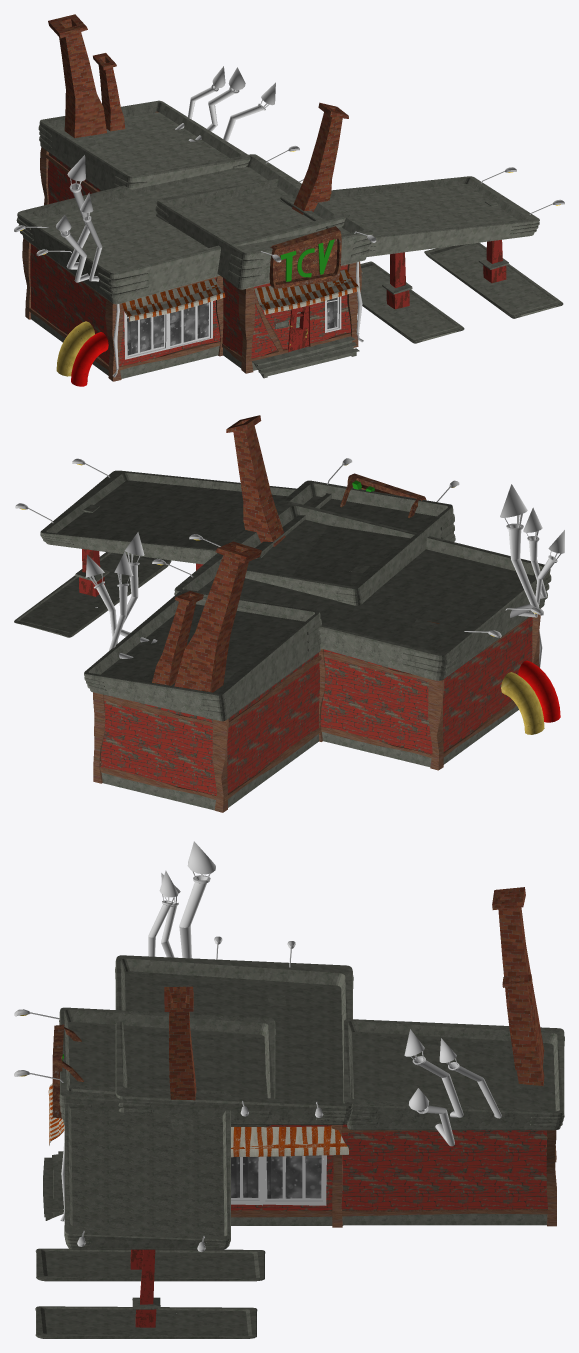
Rendered from the_final_storm_prototype_shop.obj.
3 renders of one model, top to bottom at view 1: azimuth 30°, elevation 25°; view 2: azimuth 150°, elevation 25°; view 3: azimuth 270°, elevation 25°, orthographic. The views are drawn at different scales.
Visible parts, largest first — view 1: obj11, obj14, obj9, obj10, obj5, obj8, obj13, obj6, obj4, obj16, obj17, obj15 (+2 smaller); view 2: obj11, obj14, obj9, obj10, obj8, obj7, obj17, obj15, obj13, obj4; view 3: obj11, obj14, obj9, obj8, obj10, obj5, obj6, obj16, obj4, obj17, obj13.
Part boxes in pixels (x1,y1,x2,y2): obj11: (16,100,563,378); obj14: (30,153,350,366); obj9: (48,14,348,214); obj10: (22,111,361,381); obj5: (122,269,363,321); obj8: (14,66,564,377); obj13: (269,226,341,288); obj6: (127,297,337,355); obj4: (288,240,506,352); obj16: (124,301,212,359); obj17: (56,82,275,282); obj15: (71,332,108,386); obj11: (14,470,551,810); obj14: (101,617,532,795); obj9: (152,415,285,692); obj10: (93,608,540,812); obj8: (15,458,547,667); obj7: (501,672,544,734); obj17: (85,530,564,644); obj15: (518,660,560,722); obj13: (340,473,426,517); obj4: (79,549,203,596); obj11: (35,955,564,1338); obj14: (231,1124,547,1210); obj9: (164,887,544,1100); obj8: (14,841,501,1251); obj10: (231,1125,556,1227); obj5: (48,1083,349,1157); obj6: (231,1155,321,1198); obj16: (231,1155,326,1205); obj4: (130,1249,156,1327); obj17: (161,873,454,1146); obj13: (52,1024,83,1118).
Size of the model in its own units: 104 by 46.97 by 85.91.
